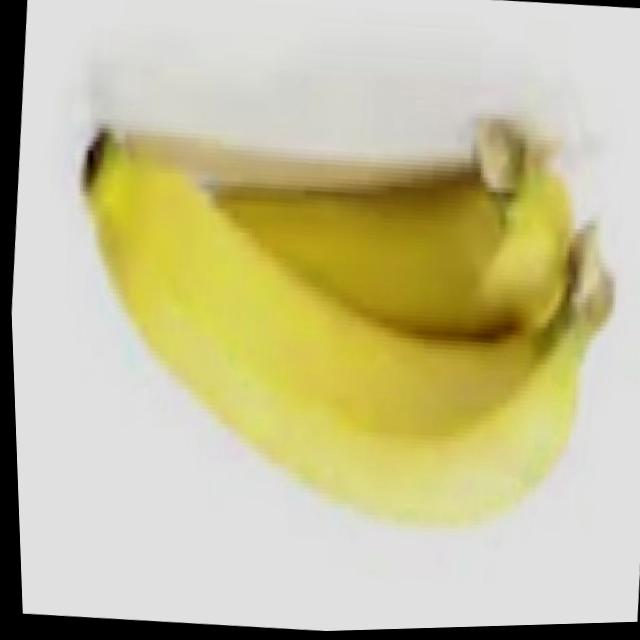Banana: (48, 83, 634, 559)
